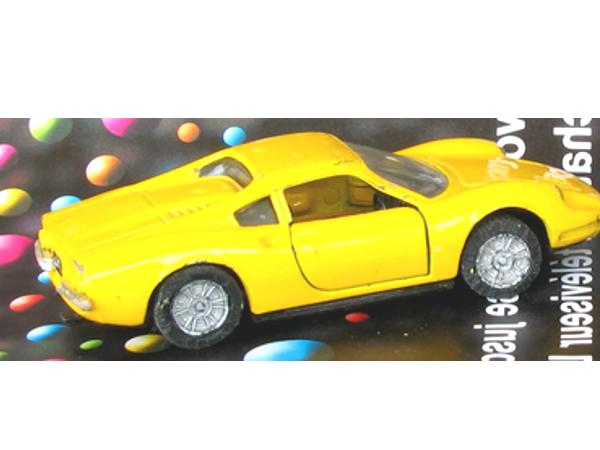toy-car: (34, 130, 600, 350)
